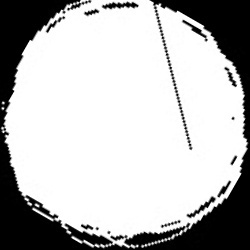spot: (4, 3, 248, 247)
